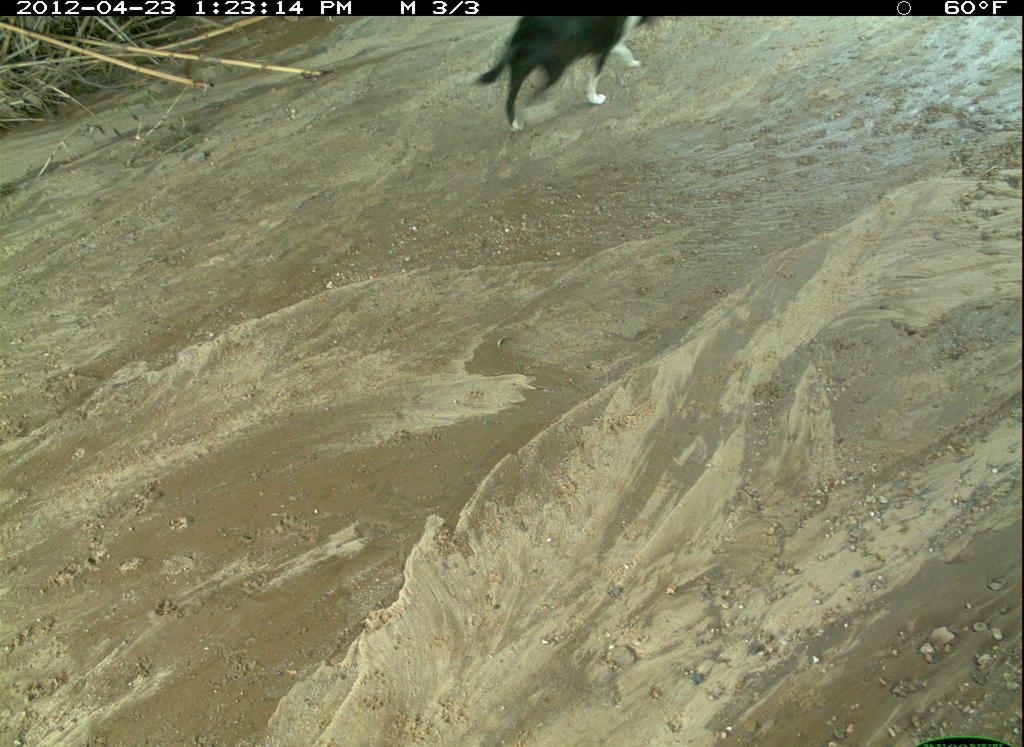dog: (942, 24, 1024, 281)
